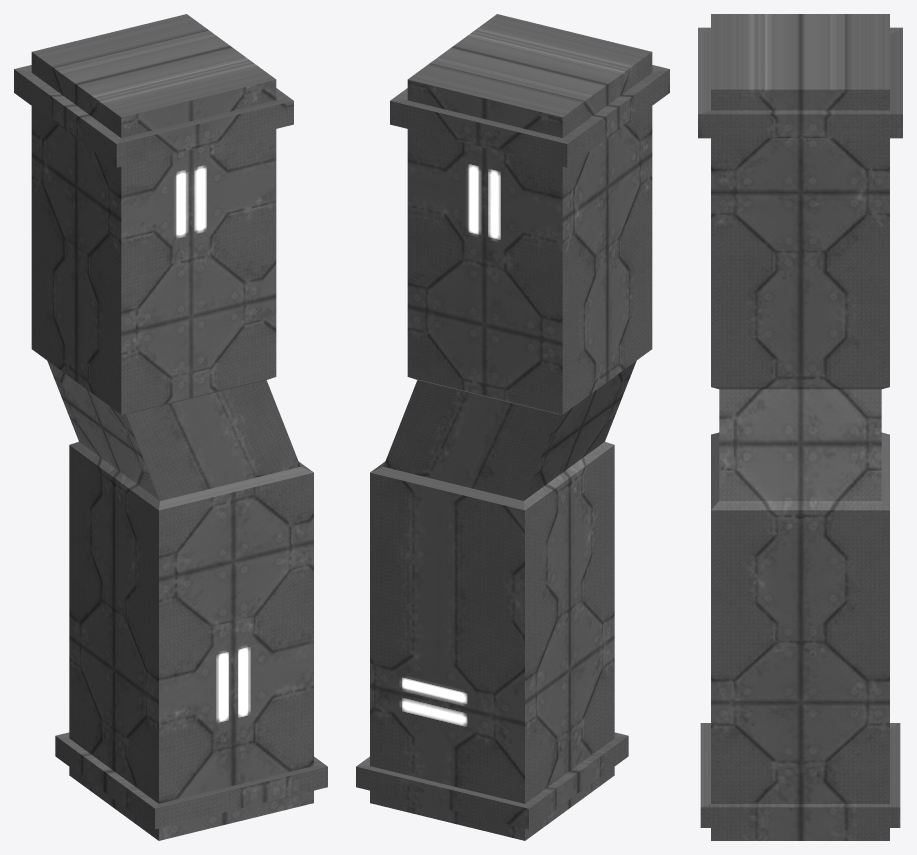
File: Pillar_1.fbx
3 views of the same model, side by side, from view 1: azimuth 30°, elevation 25°; view 2: azimuth 150°, elevation 25°; view 3: azimuth 270°, elevation 25° (orthographic).
Visible parts, largest first — view 1: Pillar_1; view 2: Pillar_1; view 3: Pillar_1.
Part boxes in pixels (x1,y1,x2,y2): Pillar_1: (14,14,327,840); Pillar_1: (356,14,669,840); Pillar_1: (698,14,902,840).
Bounding box in the file's own units: 274 × 903 × 229.
Materials: 1 (1 with a texture image).
